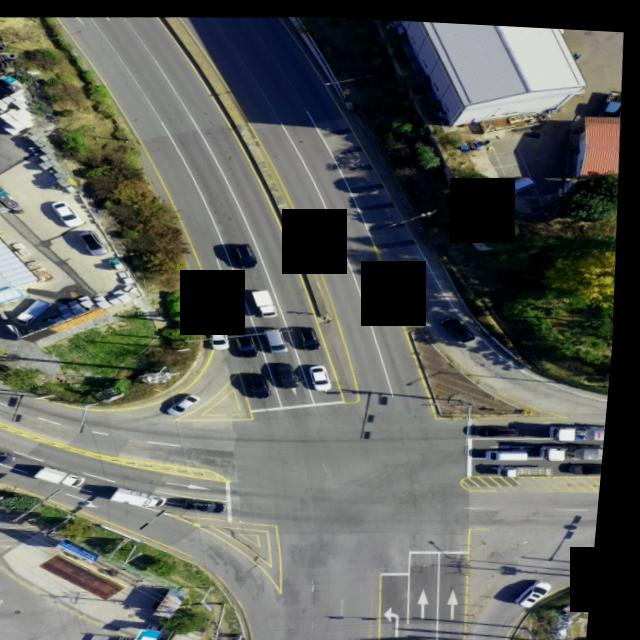car: (494, 169, 538, 193), (527, 573, 564, 601), (54, 199, 90, 227), (172, 391, 210, 415), (82, 228, 114, 254), (236, 239, 265, 267), (240, 326, 267, 356), (265, 325, 293, 353), (484, 417, 533, 433), (276, 358, 303, 386), (491, 441, 537, 457), (313, 360, 340, 387), (252, 368, 278, 395), (189, 495, 232, 511), (211, 321, 236, 348), (301, 322, 326, 348), (0, 442, 24, 466), (571, 456, 610, 469), (591, 629, 598, 640)
medium_truck: (551, 436, 611, 456), (557, 417, 613, 438)
small_truck: (114, 483, 176, 510), (39, 461, 95, 486), (18, 296, 61, 326), (503, 456, 559, 475), (252, 284, 283, 314), (219, 282, 247, 310), (601, 82, 624, 108)
